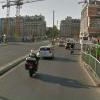Motorcycle: (20, 49, 42, 85)
